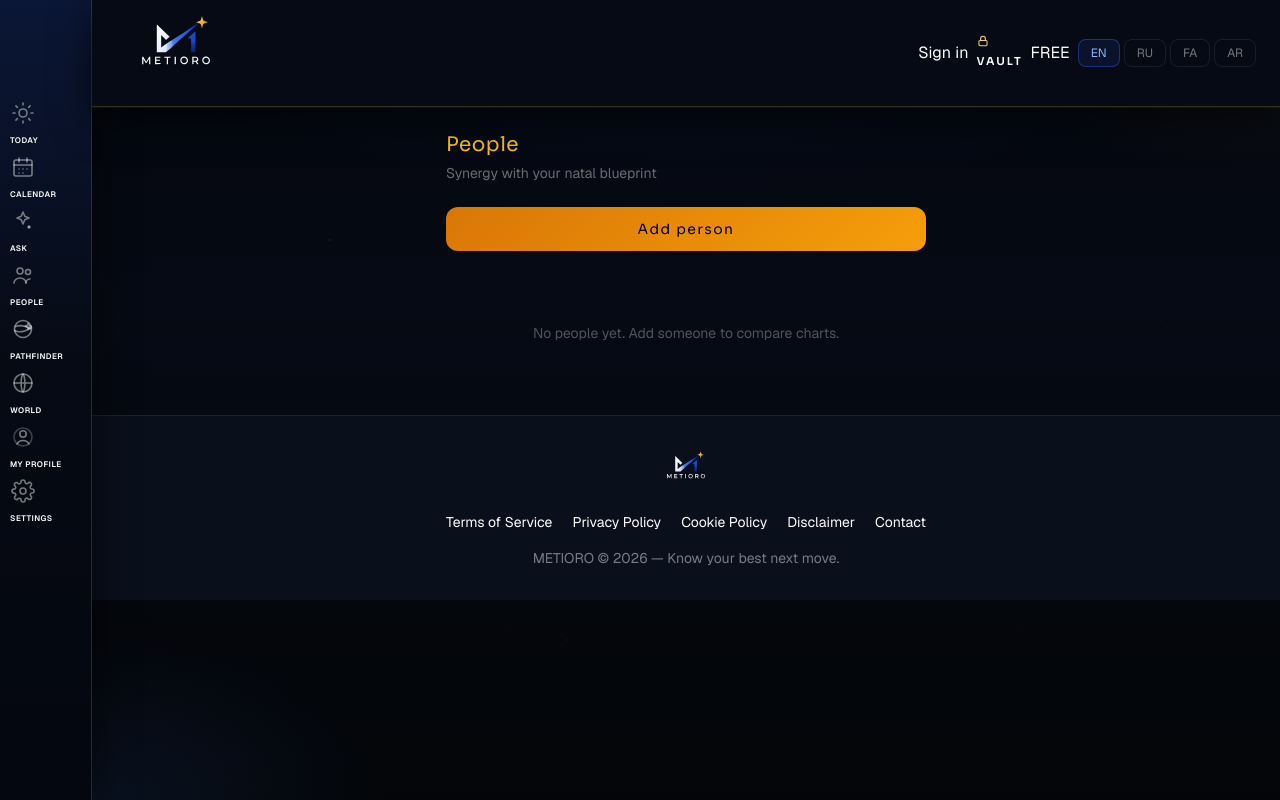
Test: People input integrity › does not prefill 1990-01-15 or 12:00 on a new person
Click the button "Add person" at (686,229), box x1=446 y1=207 x2=926 y2=251
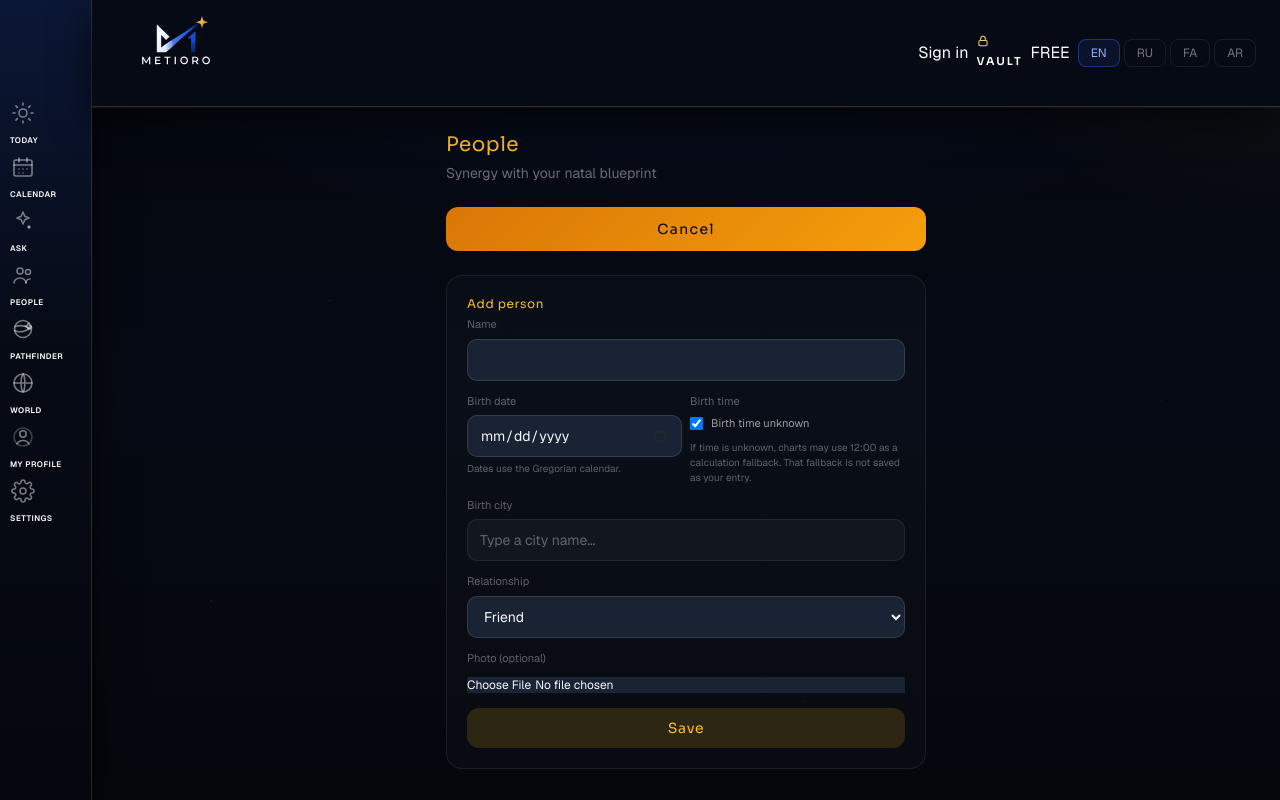
Now the date field labelled "Birth date" is empty, box x1=467 y1=415 x2=682 y2=457
Now the checkbox with test id "people-time-unknown" is checked, box x1=690 y1=417 x2=703 y2=430
